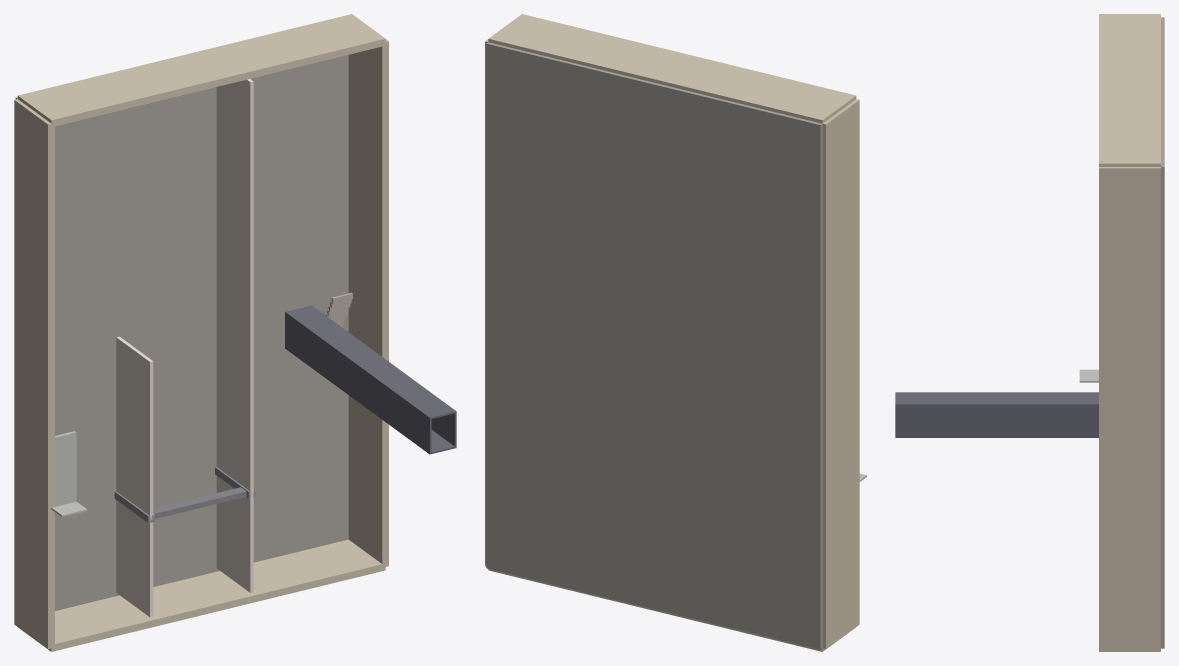
3 renders of one model, left to right at view 1: azimuth 30°, elevation 25°; view 2: azimuth 150°, elevation 25°; view 3: azimuth 270°, elevation 25°, orthographic. The views are drawn at different scales.
Parts seen in each view (by area): view 1: slab_slab_f0, wall_wall_f0_ext_w, wall_wall_f0_int_2, wall_wall_f0_ext_n, wall_wall_f0_ext_e, wall_wall_f0_ext_s, elevator_elevator_1, wall_wall_f0_int_1, balcony_balcony_f1_1, beam_beam_f0_1; view 2: slab_slab_f0, wall_wall_f0_ext_w, wall_wall_f0_ext_e, wall_wall_f0_ext_n, wall_wall_f0_ext_s; view 3: wall_wall_f0_ext_n, wall_wall_f0_ext_e, elevator_elevator_1, slab_slab_f0.
Boxes of the visible parts, bbox=[...] form: slab_slab_f0: bbox=[15, 55, 348, 610]; wall_wall_f0_ext_w: bbox=[14, 99, 54, 649]; wall_wall_f0_int_2: bbox=[216, 79, 253, 592]; wall_wall_f0_ext_n: bbox=[348, 39, 388, 566]; wall_wall_f0_ext_e: bbox=[17, 14, 385, 127]; wall_wall_f0_ext_s: bbox=[18, 539, 385, 651]; elevator_elevator_1: bbox=[285, 305, 456, 454]; wall_wall_f0_int_1: bbox=[116, 336, 153, 617]; balcony_balcony_f1_1: bbox=[51, 431, 87, 516]; beam_beam_f0_1: bbox=[153, 487, 246, 518]; slab_slab_f0: bbox=[486, 42, 822, 649]; wall_wall_f0_ext_w: bbox=[822, 99, 859, 649]; wall_wall_f0_ext_e: bbox=[488, 14, 856, 123]; wall_wall_f0_ext_n: bbox=[485, 39, 488, 566]; wall_wall_f0_ext_s: bbox=[488, 569, 855, 651]; wall_wall_f0_ext_n: bbox=[1099, 167, 1160, 650]; wall_wall_f0_ext_e: bbox=[1099, 14, 1160, 166]; elevator_elevator_1: bbox=[895, 392, 1098, 437]; slab_slab_f0: bbox=[1161, 17, 1164, 648].
Size of the model in its own units: 20.4 by 30.4 by 15.2.
